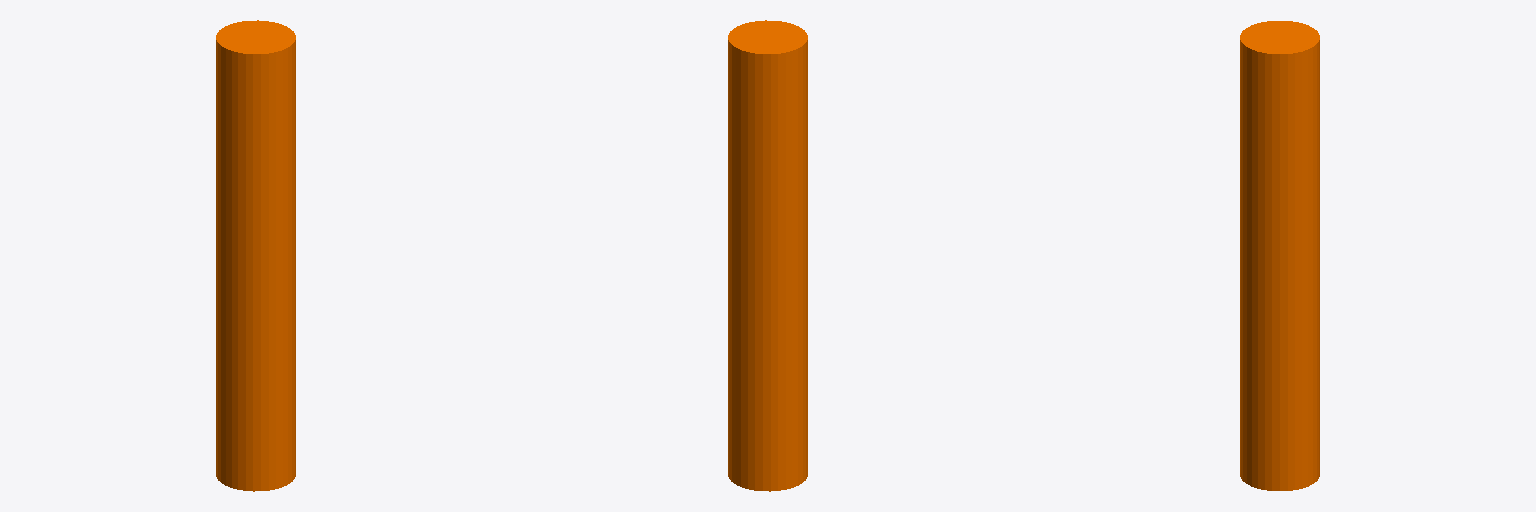
The robot description file, URDF, robot "cylinder":
<?xml version='1.0' encoding='UTF-8'?>
<robot name="cylinder">
  <link name="base_link">
    <inertial>
      <origin xyz="0.0 0.0 0.0" rpy="0.0 -0.0 0.0"/>
      <mass value="1.0"/>
      <inertia ixx="1.0" ixy="0.0" ixz="0.0" iyy="1.0" iyz="0.0" izz="1.0"/>
    </inertial>
    <visual>
      <geometry>
        <cylinder length="2.4" radius="0.2"/>
      </geometry>
      <material name="orange">
        <color rgba="1.0 0.5 0.0 1.0"/>
      </material>
      <origin xyz="0 0 1.0" rpy="0 0 0"/>
    </visual>
    <collision>
      <geometry>
        <cylinder length="2.4" radius="0.2"/>
      </geometry>
      <origin xyz="0 0 1.0" rpy="0 0 0"/>
    </collision>
  </link>
</robot>

--- Render facts (derived) ---
Views: 3 orthographic renders of the robot side by side, from view 1: azimuth 30°, elevation 25°; view 2: azimuth 150°, elevation 25°; view 3: azimuth 270°, elevation 25°.
Model cylinder with 1 links and 0 joints (none), rooted at base_link, posed every joint at zero.
Links seen in each view (by area): view 1: base_link; view 2: base_link; view 3: base_link.
Boxes of the visible links, left/top/right/bottom form: base_link: left=216, top=20, right=295, bottom=491; base_link: left=728, top=20, right=807, bottom=491; base_link: left=1240, top=21, right=1319, bottom=490.
Size in the robot's own frame: 0.4 by 0.4 by 2.4 metres.
Geometry: primitives only (box / cylinder / sphere), no mesh files.